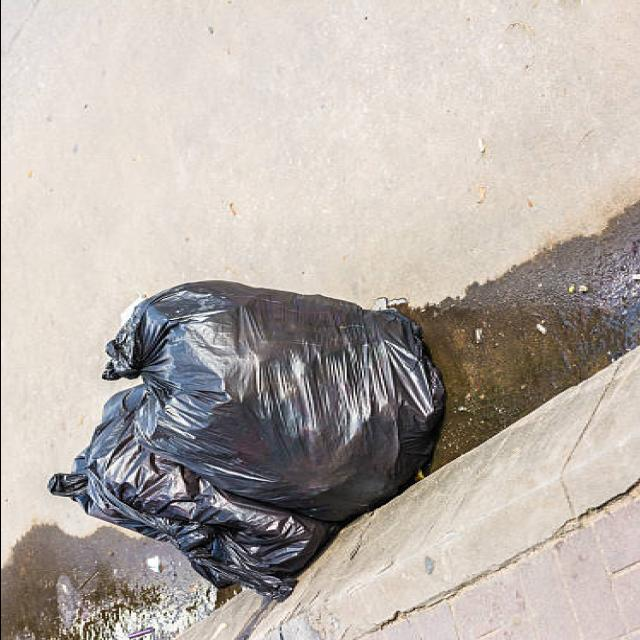garbage: (47, 275, 464, 616)
